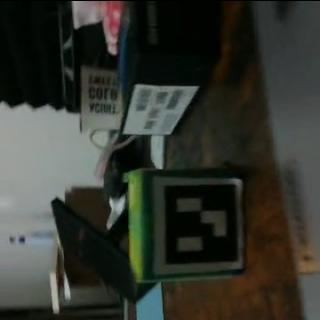armor: (148, 176, 243, 274)
robot: (128, 167, 248, 284)
